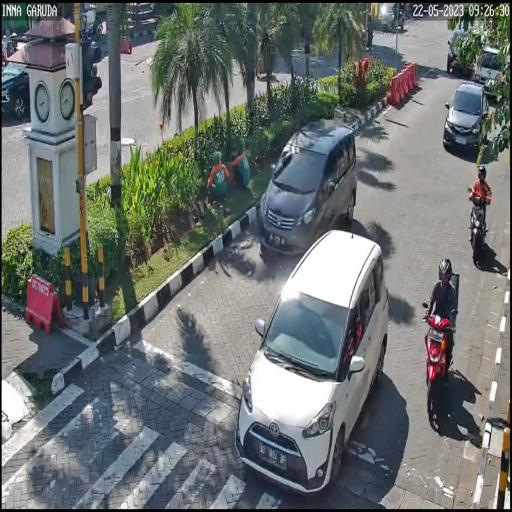mobil: (232, 235, 392, 492), (257, 124, 361, 250), (445, 77, 486, 160)
motor: (419, 296, 459, 420), (464, 180, 493, 264)
